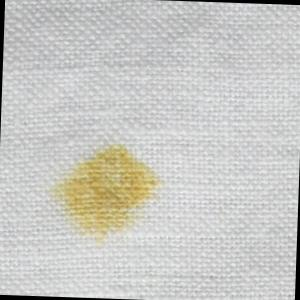Oil Stain: (46, 141, 168, 254)
